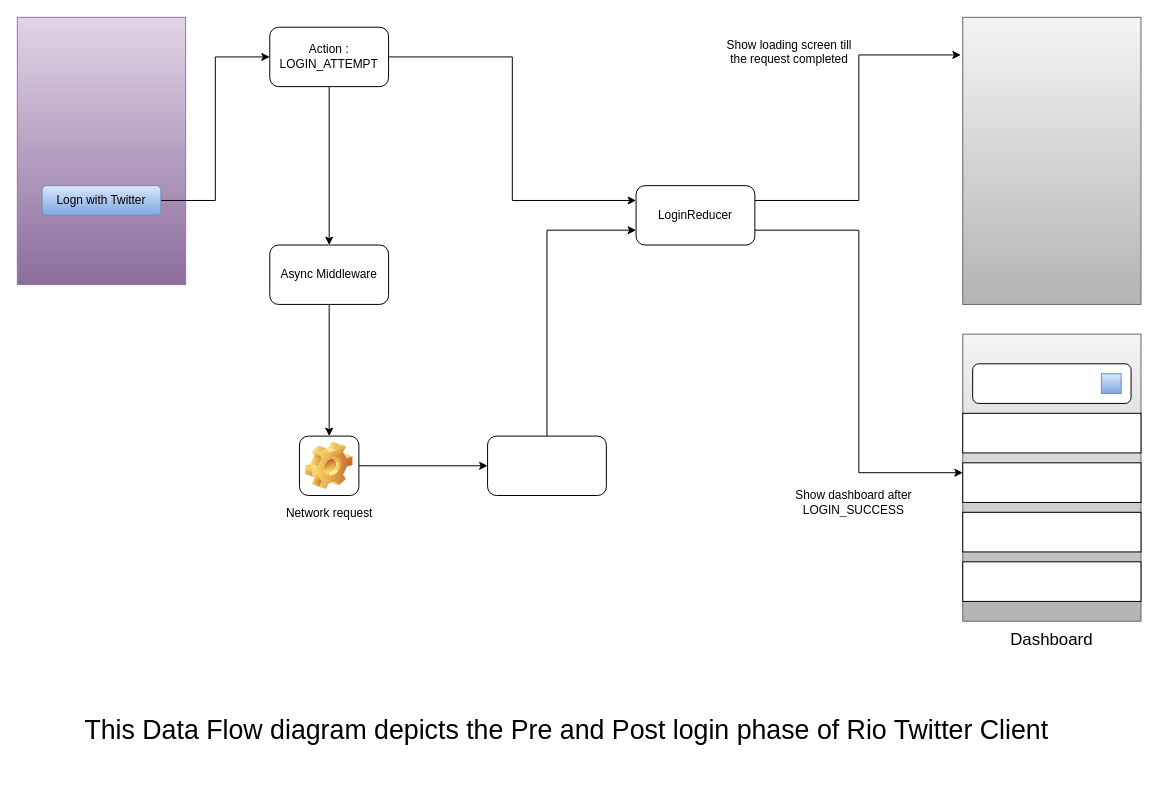
Some shapes in this 1158 by 807 pixel diagram are drawn without their labels. Here are the shapes that lost their labels. From the top down, the box of each, then its label:
(962, 16, 1141, 304): Loading
(487, 435, 606, 495): Action: LOGIN_SUCCESS
